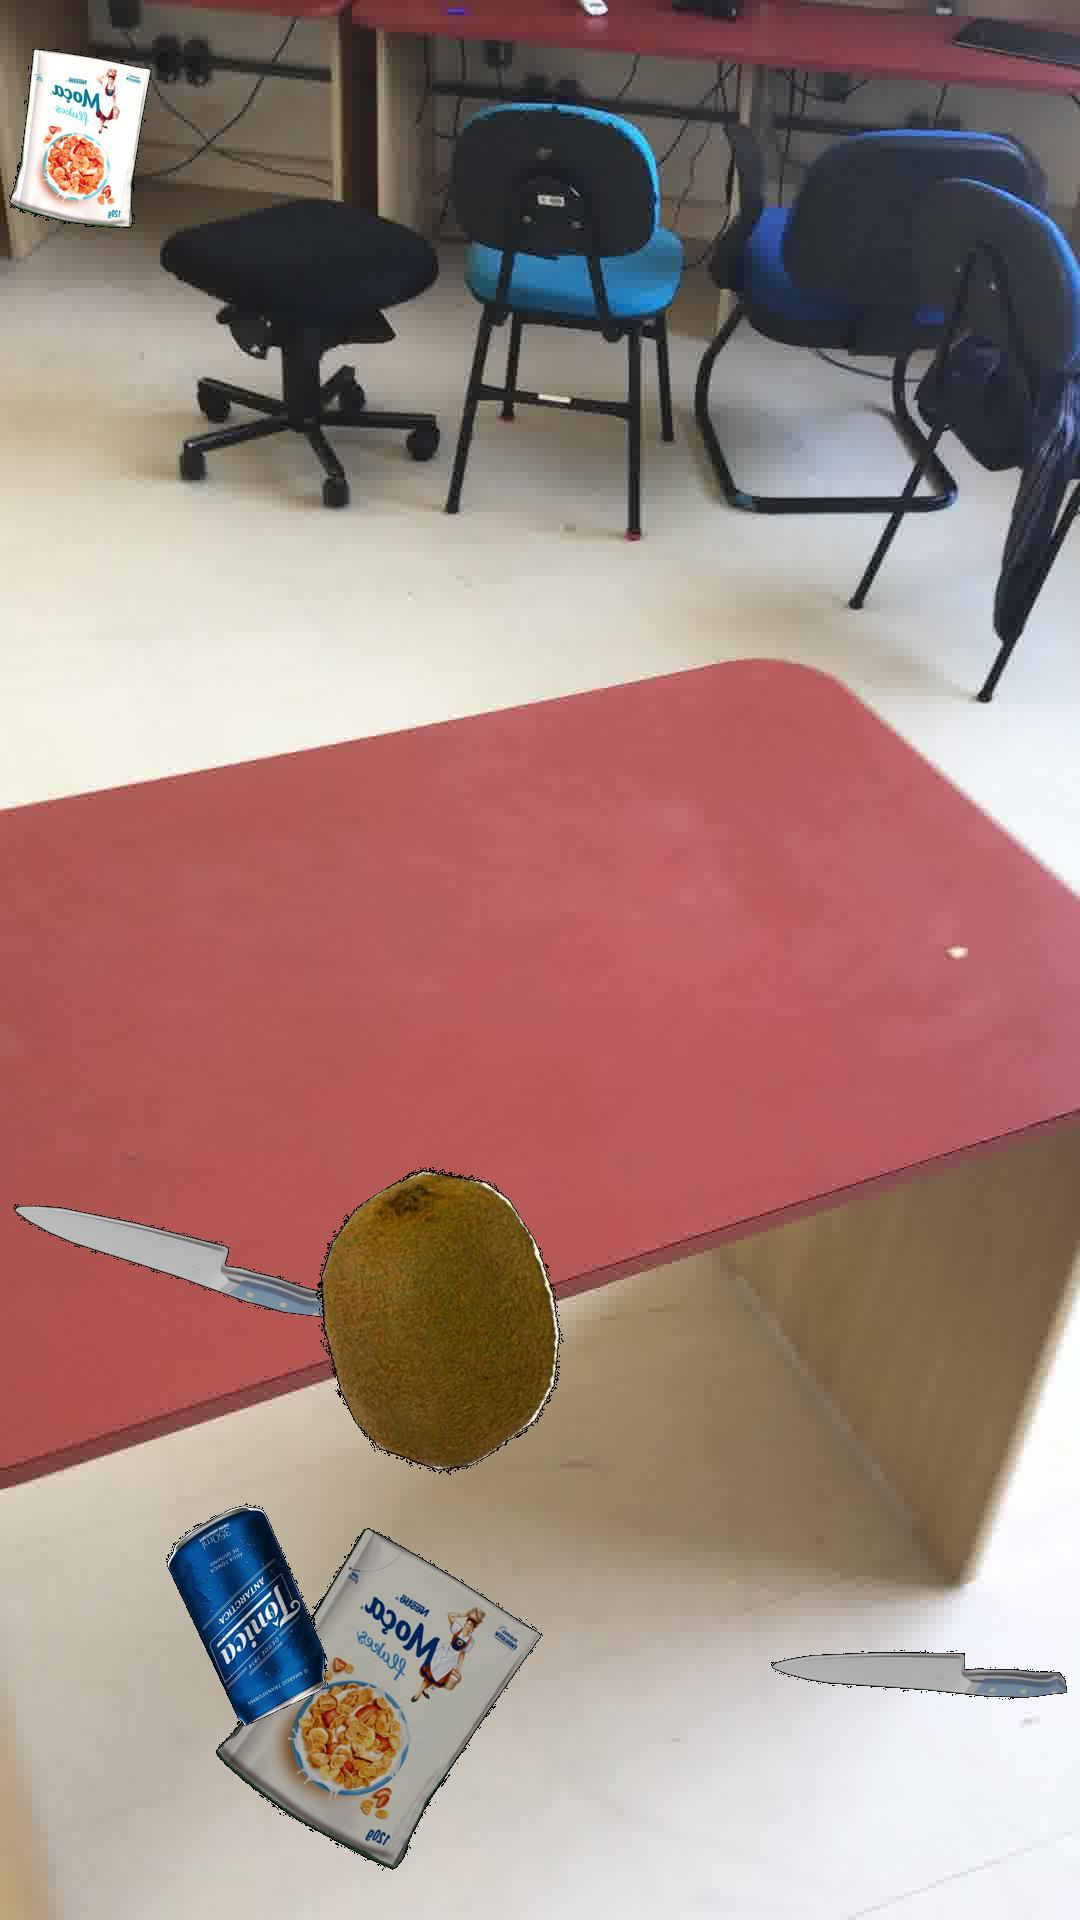corn flakes: (215, 1527, 541, 1869), (8, 47, 149, 227)
kiwi: (314, 1167, 559, 1473)
knife: (12, 1204, 322, 1316), (770, 1648, 1065, 1697)
tonic: (165, 1503, 326, 1725)
